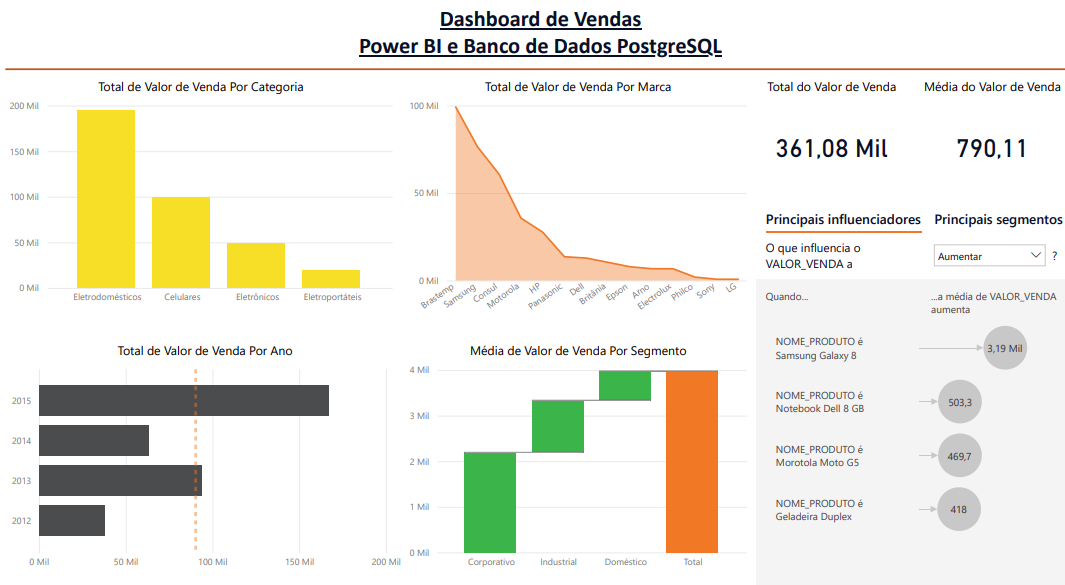

The dashboard page shown, as its layout file describes it:
{"tool":"powerbi","page":{"name":"Página 1","canvas":[1280,720],"ordinal":0},"visuals":[{"type":"textbox","box":[10.1,0,1270.4,90.5],"z":0},{"type":"shape","box":[4.3,63.2,1270.4,35.9],"z":1000},{"type":"columnChart","title":"Total de Valor de Venda Por Categoria","fields":{"Y":["Sum(mkt TB_VENDAS.VALOR_VENDA)"],"Category":["mkt TB_PRODUTO.CATEGORIA"]},"box":[4.3,90.5,465.6,280.2],"z":2000},{"type":"clusteredBarChart","title":"Total de Valor de Venda Por Ano","fields":{"Y":["Sum(mkt TB_VENDAS.VALOR_VENDA)"],"Category":["mkt TB_DATA.ANO_COND"]},"box":[4.3,405.3,475.7,280.2],"z":3000},{"type":"areaChart","title":"Total de Valor de Venda Por Marca","fields":{"Y":["Sum(mkt TB_VENDAS.VALOR_VENDA)"],"Category":["mkt TB_PRODUTO.MARCA"]},"box":[480,90.5,412.5,290.3],"z":4000},{"type":"waterfallChart","title":"Média de Valor de Venda Por Segmento","fields":{"Y":["Avg(mkt TB_VENDAS.VALOR_VENDA)"],"Category":["mkt TB_PRODUTO.SEGMENTO"]},"box":[480,405.3,412.5,280.2],"z":5000},{"type":"card","title":"Total do Valor de Venda","fields":{"Values":["Sum(mkt TB_VENDAS.VALOR_VENDA)"]},"box":[892.5,90.5,191.1,145.1],"z":6000},{"type":"card","title":"Média do Valor de Venda","fields":{"Values":["Avg(mkt TB_VENDAS.VALOR_VENDA)"]},"box":[1083.6,90.5,191.1,145.1],"z":7000},{"type":"keyDriversVisual","fields":{"Target":["mkt TB_VENDAS.VALOR_VENDA"],"ExplainBy":["mkt TB_PRODUTO.NOME_PRODUTO"]},"box":[892.5,235.7,380.8,484.3],"z":8000}]}

Visuals, with their boxes in screenshot pixels (x1, y1, x2, y2), scaled from the page's 1280x720 canvas onto the 1065x585 screenshot:
textbox: [8,0,1064,74]
shape: [4,51,1061,81]
"Total de Valor de Venda Por Categoria" columnChart: [4,74,391,301]
"Total de Valor de Venda Por Ano" clusteredBarChart: [4,329,399,557]
"Total de Valor de Venda Por Marca" areaChart: [399,74,743,309]
"Média de Valor de Venda Por Segmento" waterfallChart: [399,329,743,557]
"Total do Valor de Venda" card: [743,74,902,191]
"Média do Valor de Venda" card: [902,74,1061,191]
keyDriversVisual - mkt TB_VENDAS.VALOR_VENDA x mkt TB_PRODUTO.NOME_PRODUTO: [743,192,1059,584]
